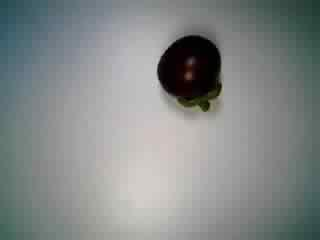mangosteen: (153, 32, 226, 114)
